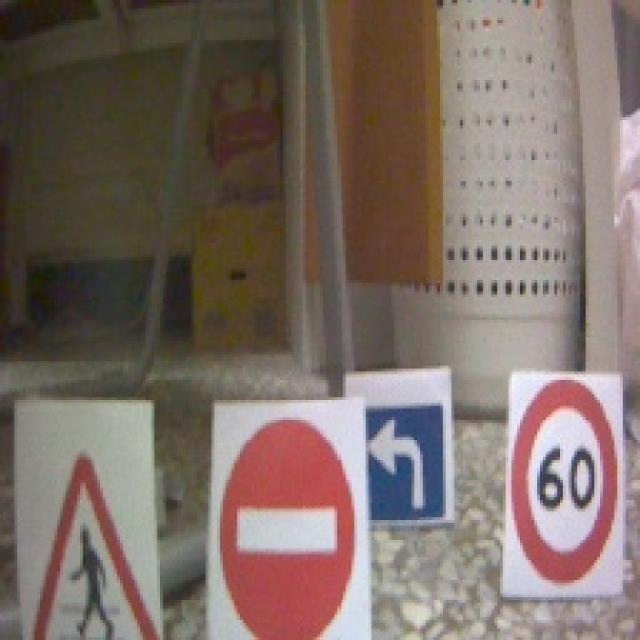DoNotEnterSign: (214, 415, 367, 640)
